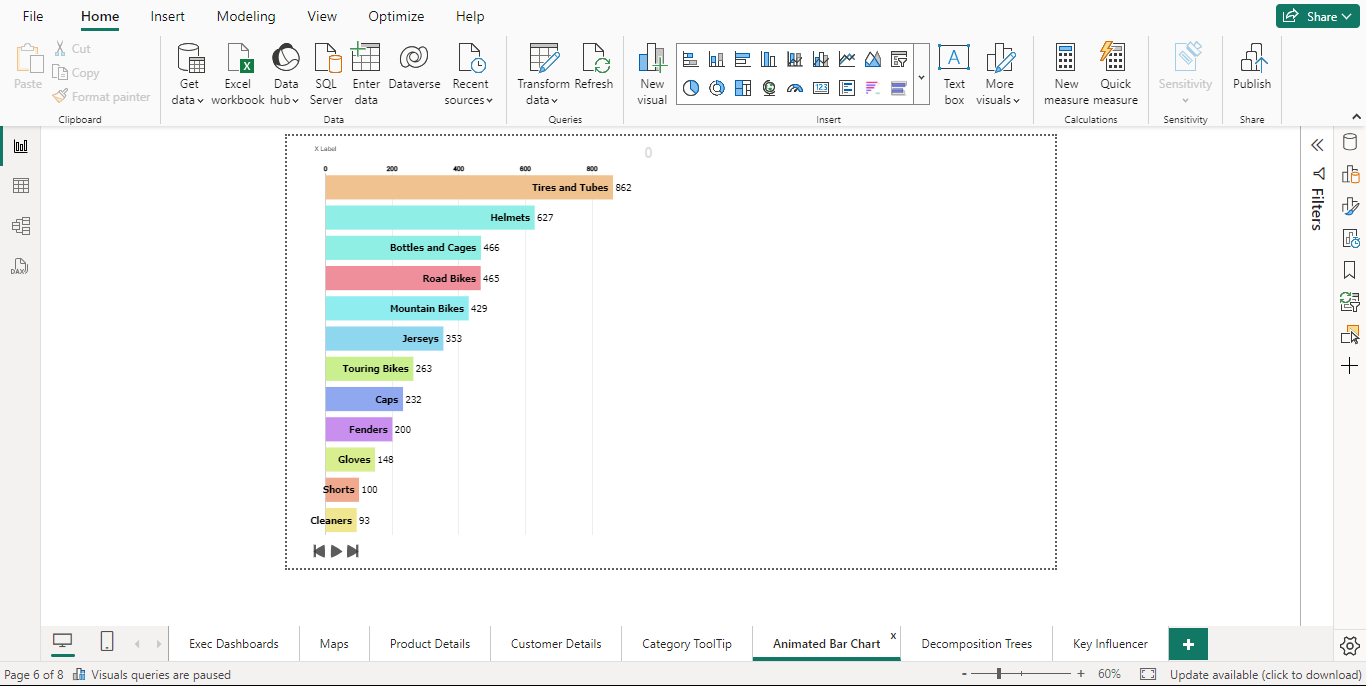

The dashboard page shown, as its layout file describes it:
{"tool":"powerbi","page":{"name":"Animated Bar Chart","canvas":[1280,720],"ordinal":5},"visuals":[{"type":"RaceBarChart828E7F9A76D539488CE6C92657D234CF","fields":{"barRaceChart_chartItems":["Product Subcategories Lookup.SubcategoryName"],"barRaceChart_chartValues":["Measure Table.Total Orders"],"barRaceChart_chartPeriods":["Calendar Lookup.Start of Month"]},"box":[0,0,639.5,720],"z":0}]}

Visuals, with their boxes on the page's 1280x720 design canvas (x1, y1, x2, y2). These are canvas units, not pixel positions in the 1366x686 screenshot, which may show the page scaled, cropped or inside an application window:
RaceBarChart828E7F9A76D539488CE6C92657D234CF - Product Subcategories Lookup.SubcategoryName x Measure Table.Total Orders: detection(0, 0, 640, 720)
